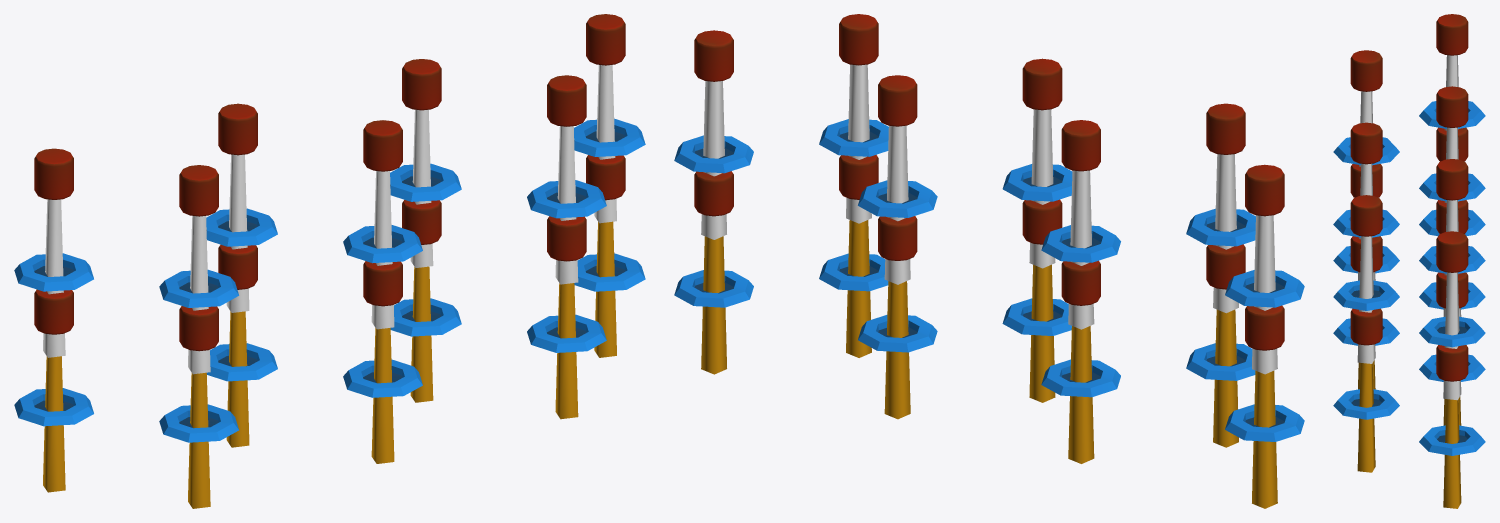
The model's file is toy__hammer_trap_sevenfold_ugc_a_000_1x1.glb.
3 renders of one model, left to right at view 1: azimuth 30°, elevation 25°; view 2: azimuth 150°, elevation 25°; view 3: azimuth 270°, elevation 25°, orthographic. The views are drawn at different scales.
Parts seen in each view (by area): view 1: UGC_Pri_SpearTrap_29, UGC_Pri_SpearTrap_25, UGC_Pri_SpearTrap_9, UGC_Pri_SpearTrap_17, UGC_Pri_SpearTrap_54, UGC_Pri_SpearTrap_38, UGC_Pri_SpearTrap_58, UGC_Pri_SpearTrap_46, UGC_Pri_SpearTrap_34, UGC_Pri_SpearTrap_42, UGC_Pri_SpearTrap_50, UGC_Pri_SpearTrap_5 (+16 smaller); view 2: UGC_Pri_SpearTrap_5, UGC_Pri_SpearTrap_13, UGC_Pri_SpearTrap_29, UGC_Pri_SpearTrap_21, UGC_Pri_SpearTrap_42, UGC_Pri_SpearTrap_34, UGC_Pri_SpearTrap_50, UGC_Pri_SpearTrap_58, UGC_Pri_SpearTrap_17, UGC_Pri_SpearTrap_25, UGC_Pri_SpearTrap_9, UGC_Pri_SpearTrap_46 (+16 smaller); view 3: UGC_Pri_SpearTrap_9, UGC_Pri_SpearTrap_5, UGC_Pri_SpearTrap_34, UGC_Pri_SpearTrap_38, UGC_Pri_SpearTrap_42, UGC_Pri_SpearTrap_46, UGC_Pri_SpearTrap_50, UGC_Pri_SpearTrap_54, UGC_Pri_SpearTrap_58, UGC_Pri_Base_4, UGC_Pri_Base_37, UGC_Pri_Base_8 (+16 smaller).
Part boxes in pixels (box(x1,y1,x2,y2)): UGC_Pri_SpearTrap_29: box(34, 289, 73, 492); UGC_Pri_SpearTrap_25: box(179, 306, 218, 508); UGC_Pri_SpearTrap_9: box(547, 216, 586, 419); UGC_Pri_SpearTrap_17: box(363, 261, 402, 463); UGC_Pri_SpearTrap_54: box(179, 165, 218, 374); UGC_Pri_SpearTrap_38: box(547, 75, 586, 284); UGC_Pri_SpearTrap_58: box(34, 148, 73, 357); UGC_Pri_SpearTrap_46: box(363, 120, 402, 329); UGC_Pri_SpearTrap_34: box(586, 14, 625, 223); UGC_Pri_SpearTrap_42: box(402, 59, 441, 267); UGC_Pri_SpearTrap_50: box(218, 103, 257, 312); UGC_Pri_SpearTrap_5: box(586, 155, 625, 357); UGC_Pri_SpearTrap_5: box(694, 171, 733, 374); UGC_Pri_SpearTrap_13: box(878, 216, 917, 419); UGC_Pri_SpearTrap_29: box(1245, 305, 1284, 508); UGC_Pri_SpearTrap_21: box(1061, 260, 1100, 463); UGC_Pri_SpearTrap_42: box(878, 75, 917, 284); UGC_Pri_SpearTrap_34: box(694, 30, 733, 239); UGC_Pri_SpearTrap_50: box(1061, 120, 1100, 329); UGC_Pri_SpearTrap_58: box(1245, 164, 1284, 374); UGC_Pri_SpearTrap_17: box(1022, 199, 1062, 402); UGC_Pri_SpearTrap_25: box(1206, 244, 1245, 447); UGC_Pri_SpearTrap_9: box(839, 154, 878, 357); UGC_Pri_SpearTrap_46: box(1022, 58, 1062, 268); UGC_Pri_SpearTrap_9: box(1350, 308, 1382, 472); UGC_Pri_SpearTrap_5: box(1436, 345, 1468, 508); UGC_Pri_SpearTrap_34: box(1436, 231, 1468, 400); UGC_Pri_SpearTrap_38: box(1350, 195, 1382, 363); UGC_Pri_SpearTrap_42: box(1436, 159, 1468, 316); UGC_Pri_SpearTrap_46: box(1350, 122, 1382, 280); UGC_Pri_SpearTrap_50: box(1436, 86, 1468, 202); UGC_Pri_SpearTrap_54: box(1350, 50, 1382, 166); UGC_Pri_SpearTrap_58: box(1436, 14, 1468, 130); UGC_Pri_Base_4: box(1419, 425, 1485, 455); UGC_Pri_Base_37: box(1333, 280, 1399, 310); UGC_Pri_Base_8: box(1333, 389, 1399, 419).
Bounding box in the file's own units: 3.39 × 1.73 × 0.8905.
4 materials, 3 textured.
